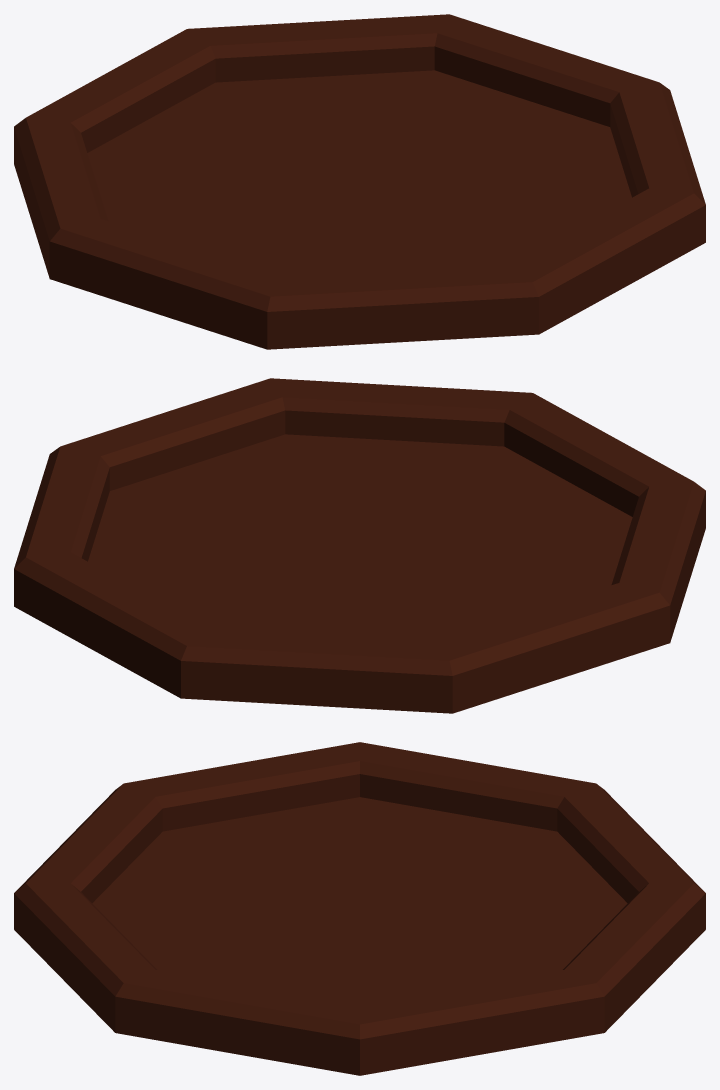
The model's file is nest.fbx.
The picture shows the model from 3 angles, top to bottom: view 1: azimuth 30°, elevation 25°; view 2: azimuth 150°, elevation 25°; view 3: azimuth 270°, elevation 25°; orthographic projection. The views are drawn at different scales.
Parts seen in each view (by area): view 1: Cylinder; view 2: Cylinder; view 3: Cylinder.
Boxes of the visible parts, x1=… form: Cylinder: x1=14, y1=14, x2=705, y2=349; Cylinder: x1=14, y1=378, x2=705, y2=713; Cylinder: x1=14, y1=742, x2=705, y2=1075.
Size of the model in its own units: 1.08 by 0.0799 by 1.08.
